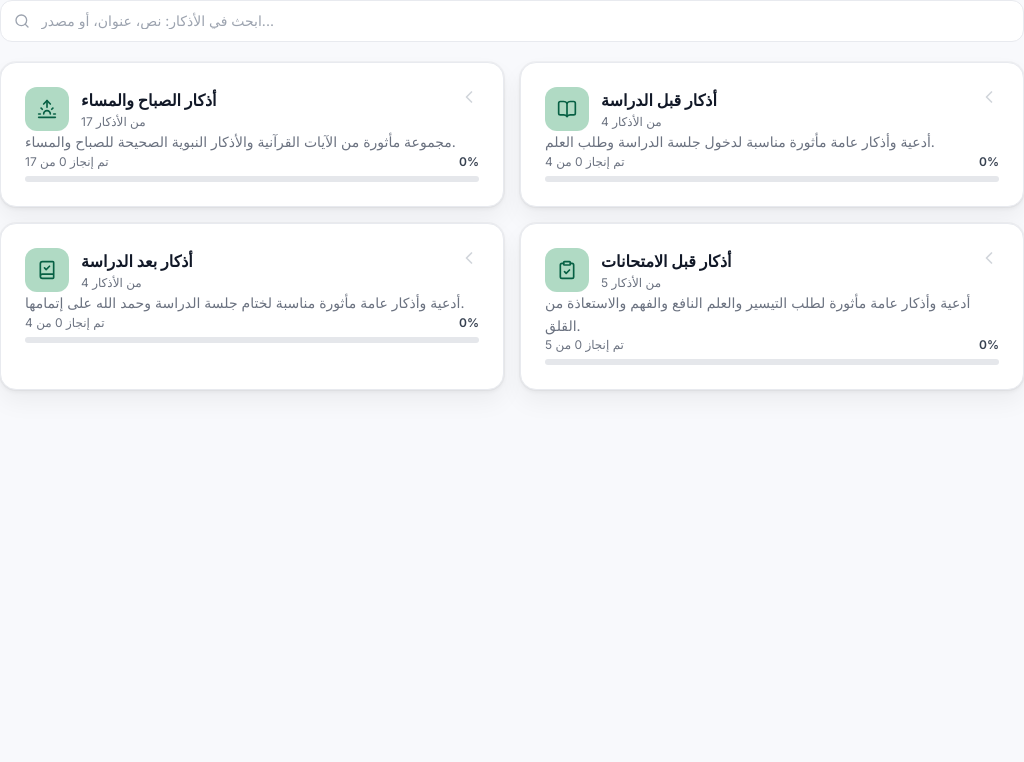
Adhkar add-dhikr submissions › submits a valid dhikr, shows a success toast and closes the modal
Click the button "أذكار الصباح والمساء" at (252, 134), box top-left (0, 62), bottom-right (504, 207)
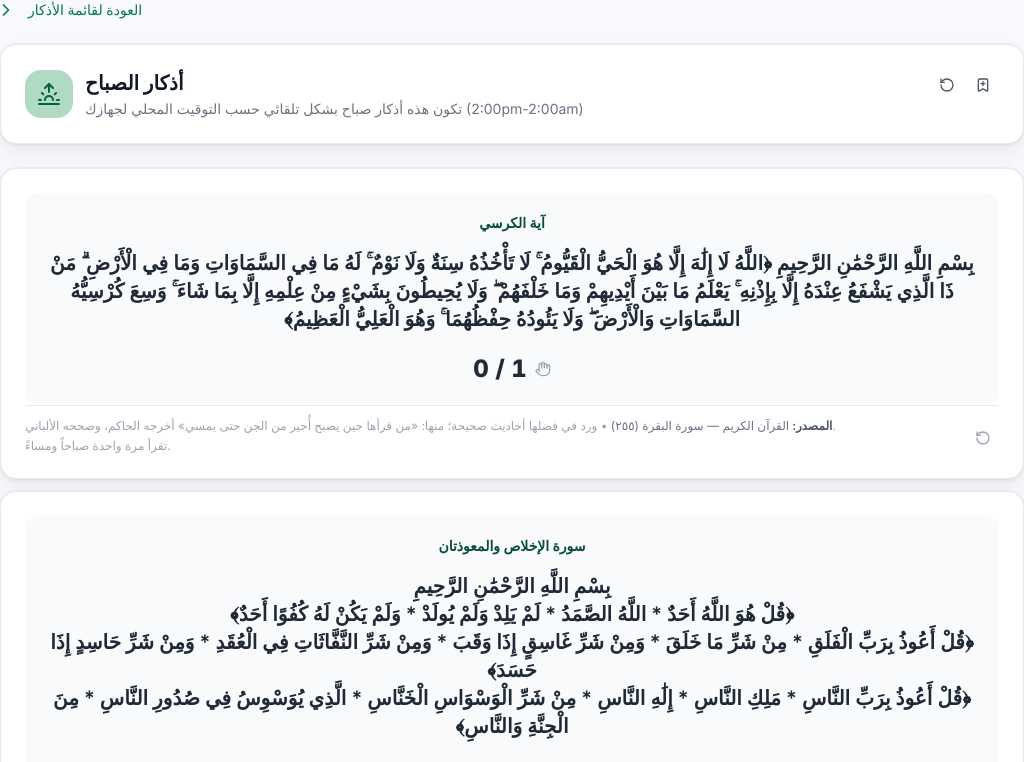
Expected: the heading "أذكار الصباح" is shown, top-left (85, 71), bottom-right (184, 95)
Click the button named "إضافة ذكر" at (983, 85), box top-left (967, 69), bottom-right (999, 101)
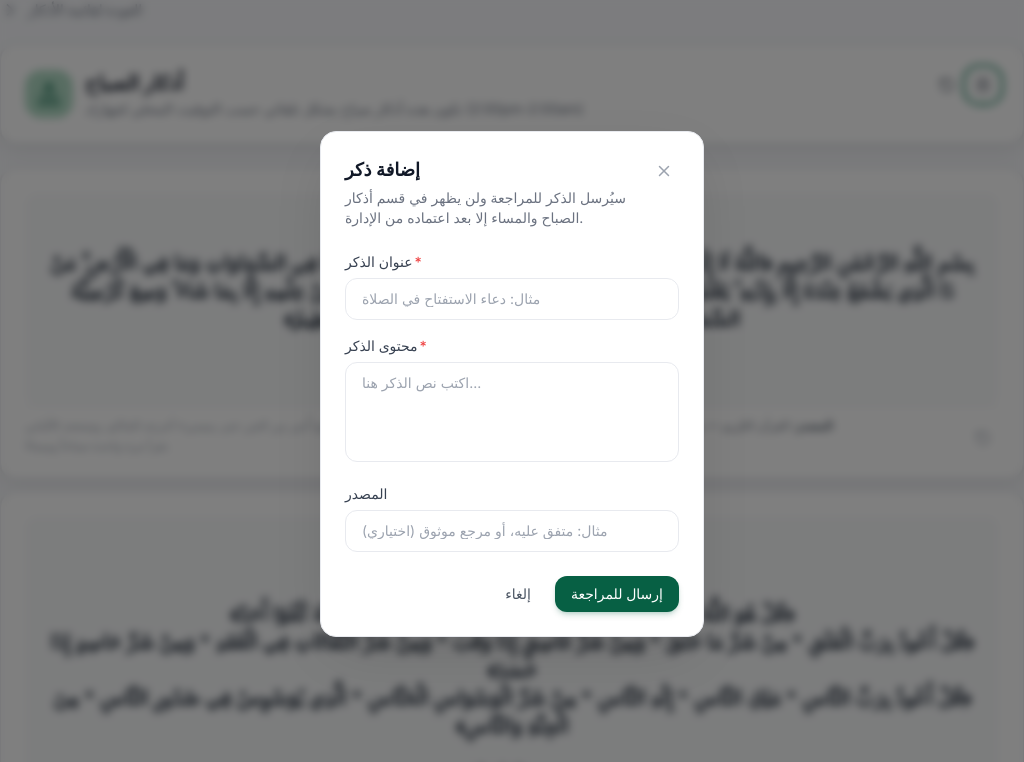
Type "دعاء مقترح" into the field labelled "عنوان الذكر" at (512, 299), box top-left (345, 278), bottom-right (679, 320)
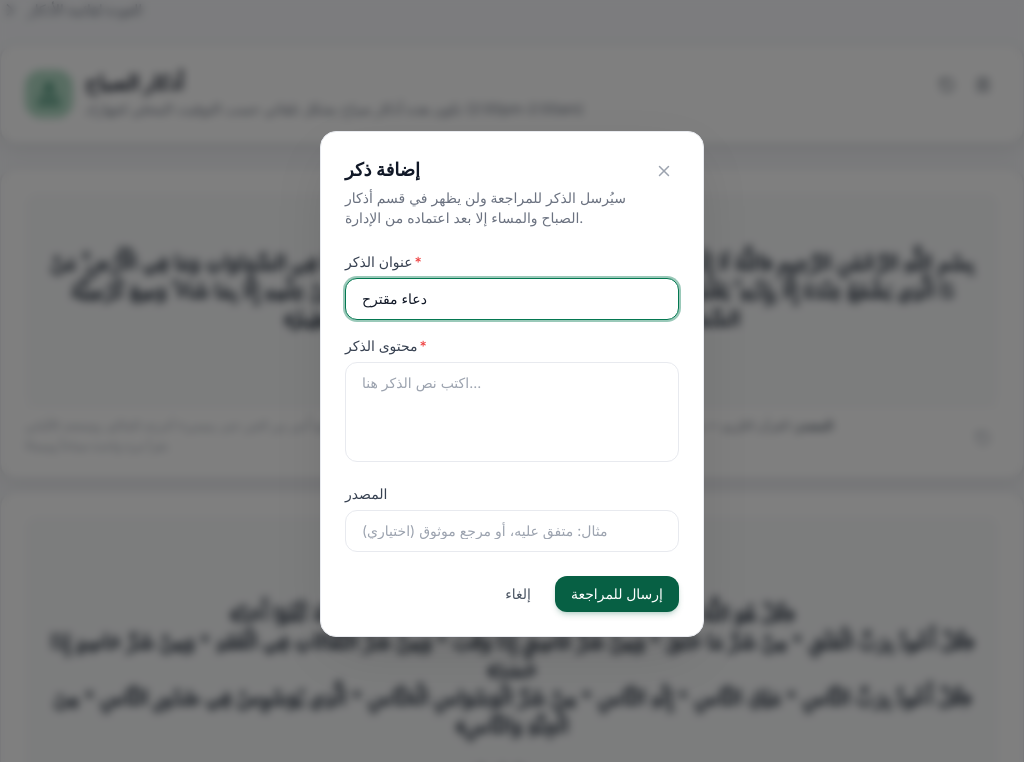
Type "نص مقترح" into the text box labelled "محتوى الذكر" at (512, 412), box top-left (345, 362), bottom-right (679, 462)
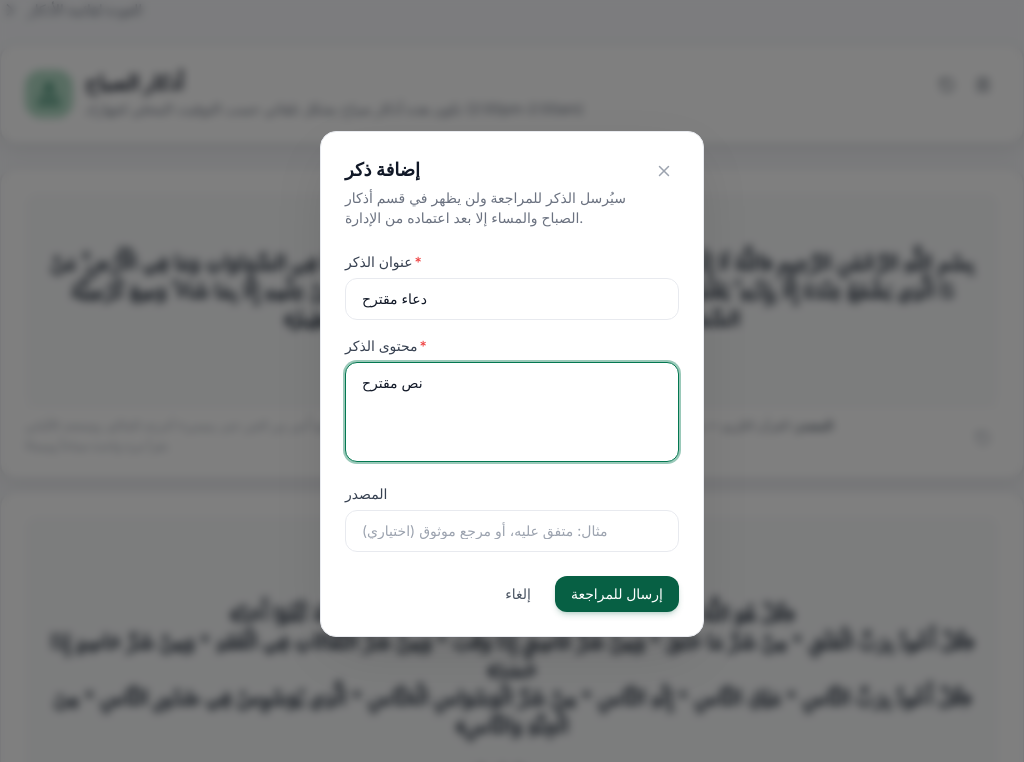
Type "مصدر مقترح" into the field labelled "المصدر" at (512, 531), box top-left (345, 510), bottom-right (679, 552)
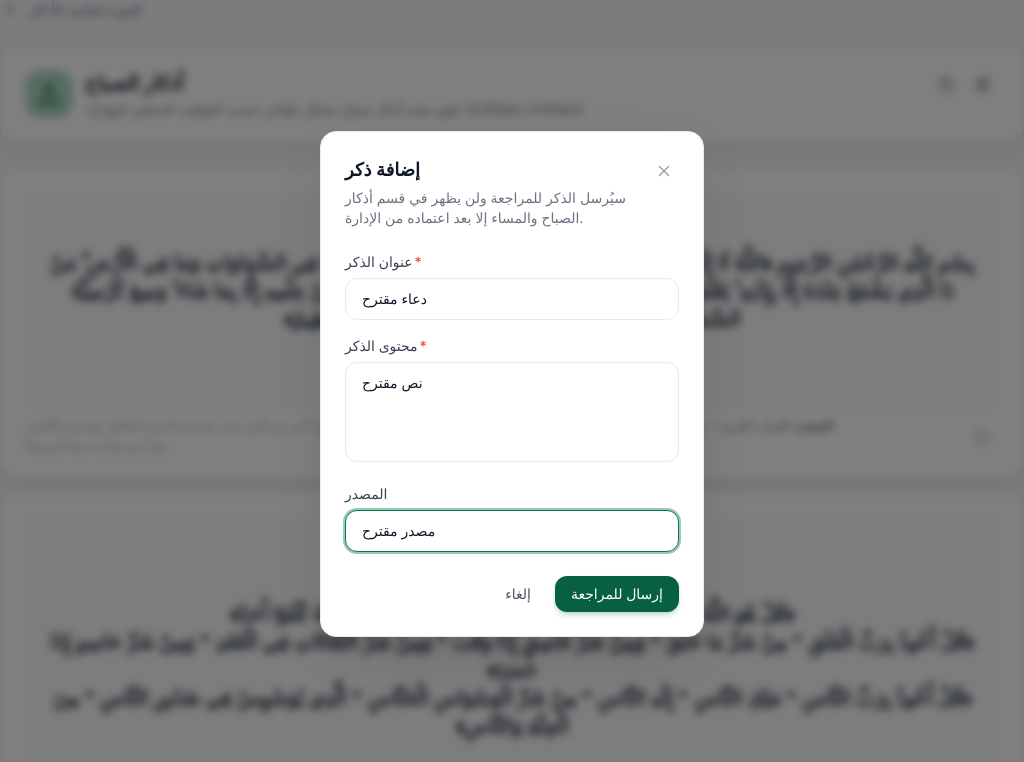
Click the button "إرسال للمراجعة" at (617, 594), box top-left (555, 576), bottom-right (679, 612)
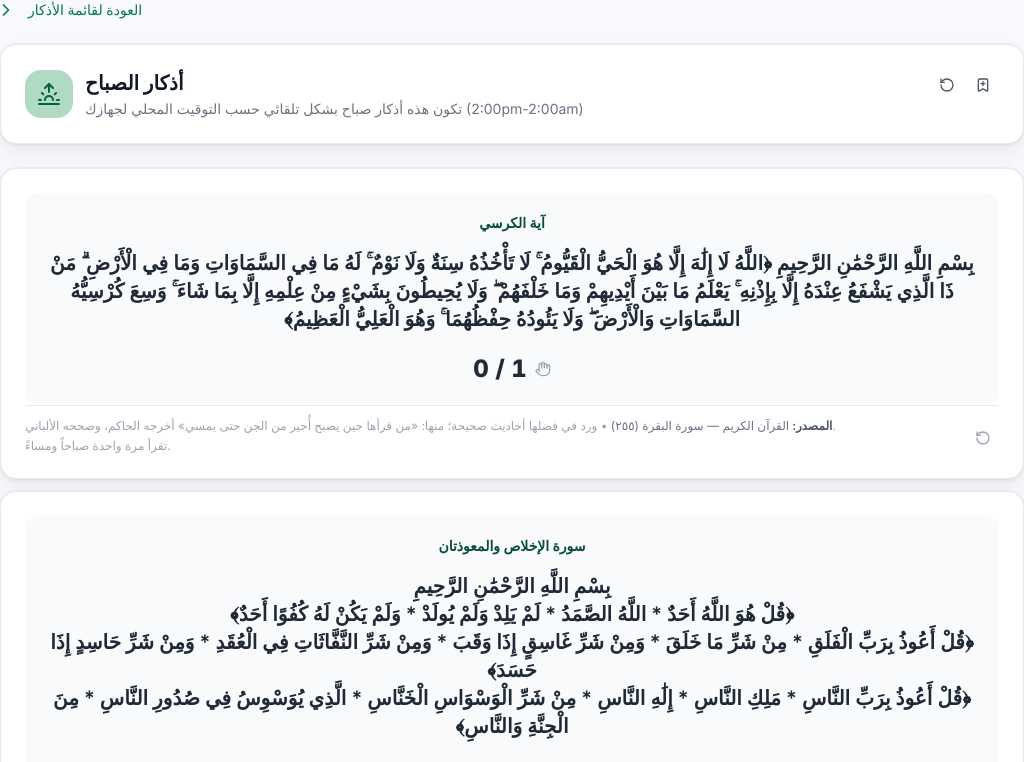
Now the dialog is gone
